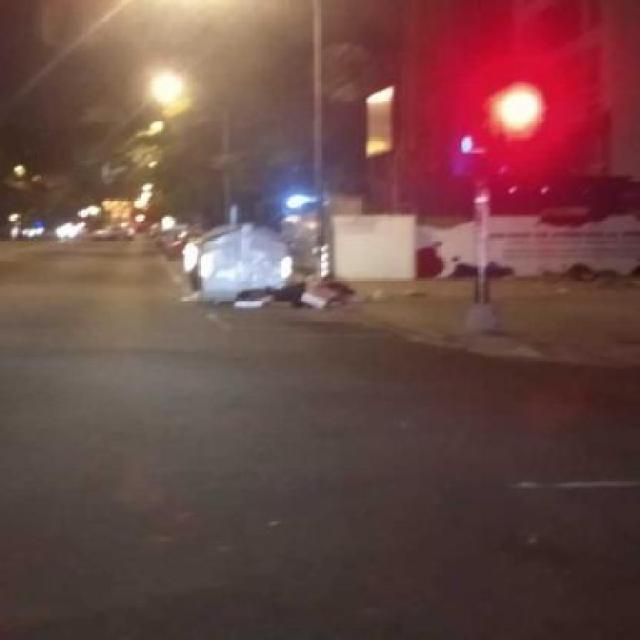garbage: (106, 194, 352, 330)
